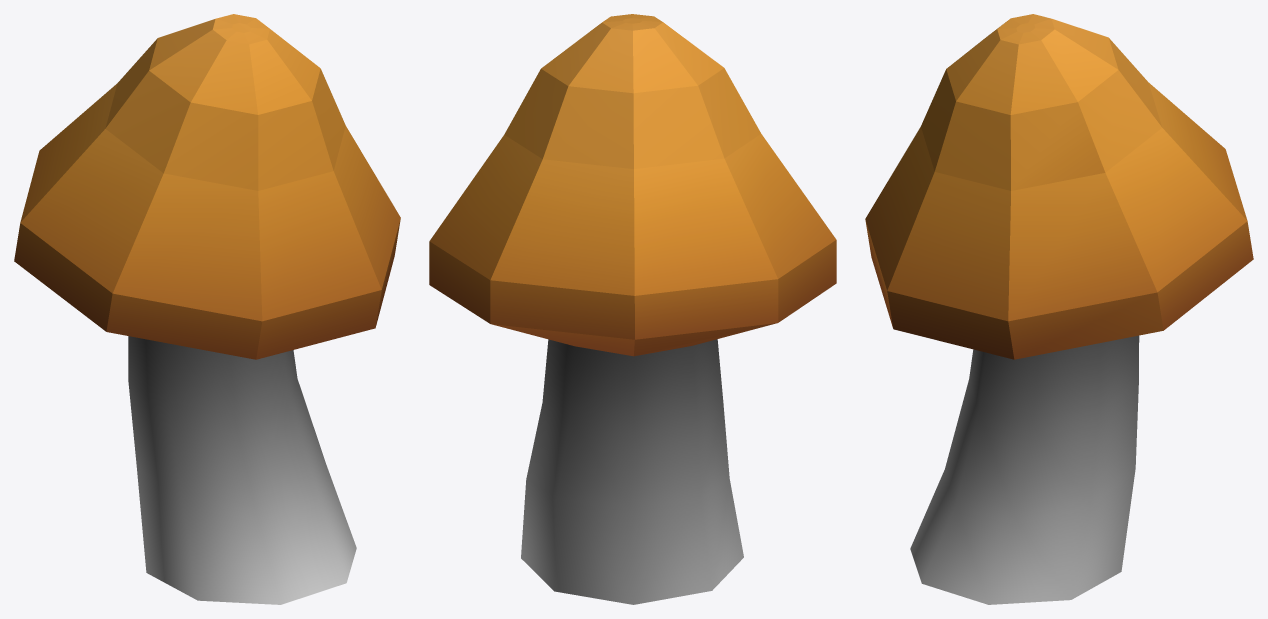
Rendered from MushroomSmallOrange.FBX.
3 renders of one model, left to right at view 1: azimuth 30°, elevation 25°; view 2: azimuth 150°, elevation 25°; view 3: azimuth 270°, elevation 25°, orthographic. The views are drawn at different scales.
Visible parts, largest first — view 1: Cylinder058; view 2: Cylinder058; view 3: Cylinder058.
Part boxes in pixels (x1,y1,x2,y2): Cylinder058: (14,14,400,604); Cylinder058: (429,14,836,604); Cylinder058: (865,14,1253,604).
Bounding box in the file's own units: 12.54 × 19.04 × 12.58.
